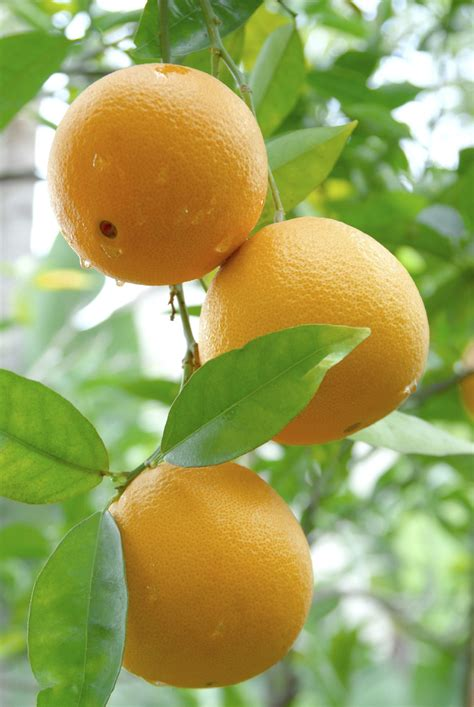orange: (191, 215, 440, 452), (105, 439, 317, 694), (40, 58, 265, 288)
